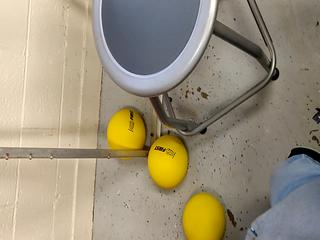power_cell: (100, 103, 151, 163), (143, 133, 194, 193), (177, 180, 228, 240)
